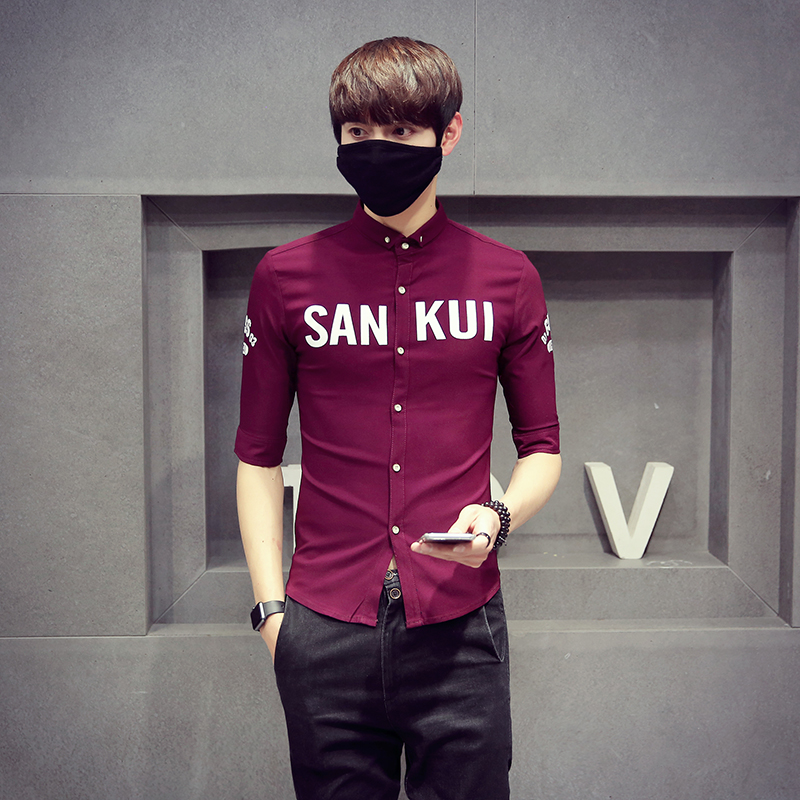face_mask: (338, 85, 438, 206)
